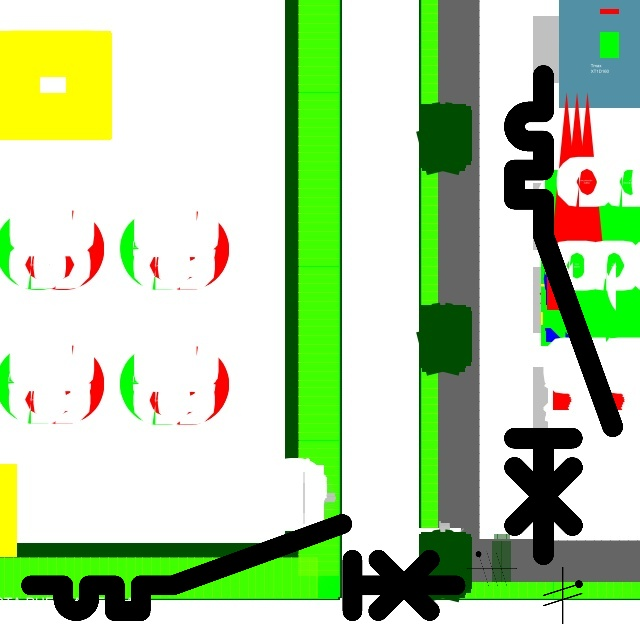interruptor_termomagnetico: (502, 63, 625, 567), (20, 513, 467, 622)
